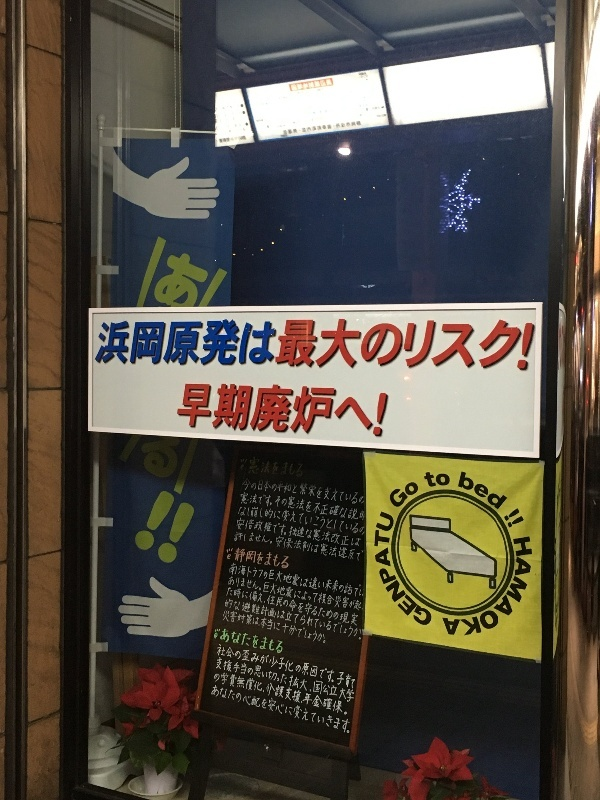text: (417, 501, 433, 656), (401, 501, 416, 656), (449, 522, 464, 667), (465, 522, 480, 667), (481, 522, 496, 667), (497, 522, 512, 667), (513, 522, 528, 667), (529, 522, 544, 667), (386, 501, 400, 656), (545, 522, 558, 667), (177, 245, 192, 308), (193, 245, 208, 308), (193, 383, 208, 440), (209, 383, 224, 440), (225, 383, 240, 440), (241, 383, 256, 440), (257, 383, 272, 440), (273, 383, 288, 440), (289, 383, 304, 440), (305, 383, 320, 440), (321, 383, 336, 440), (337, 383, 352, 440), (353, 383, 368, 440), (369, 383, 384, 440), (289, 319, 304, 375), (305, 319, 320, 375), (321, 319, 336, 375), (337, 319, 352, 375), (353, 319, 368, 375), (369, 319, 384, 375), (385, 319, 400, 375), (401, 319, 416, 375), (417, 319, 432, 375), (433, 319, 448, 375), (449, 319, 464, 375), (465, 319, 480, 375), (481, 319, 496, 375), (497, 319, 512, 375), (513, 319, 528, 375), (225, 683, 240, 735), (241, 683, 256, 735), (257, 683, 272, 735), (273, 683, 288, 735), (289, 683, 304, 735), (305, 683, 320, 735), (321, 683, 336, 735), (113, 319, 128, 369), (129, 319, 144, 369), (145, 319, 160, 369), (161, 319, 176, 369), (177, 319, 192, 369), (193, 319, 208, 369), (209, 319, 224, 369), (225, 319, 240, 369), (241, 319, 256, 369), (257, 319, 272, 369), (337, 683, 351, 735), (443, 522, 448, 667), (225, 656, 240, 704), (241, 656, 256, 704), (257, 656, 272, 704), (273, 656, 288, 704), (289, 656, 304, 704), (305, 656, 320, 704), (321, 656, 336, 704), (337, 656, 352, 704), (145, 435, 160, 482), (161, 435, 176, 482), (225, 643, 240, 689), (241, 643, 256, 689), (257, 643, 272, 689), (273, 643, 288, 689), (289, 643, 304, 689), (305, 643, 320, 689), (321, 643, 336, 689), (337, 643, 352, 689), (241, 598, 256, 643), (257, 598, 272, 643), (273, 598, 288, 643), (289, 598, 304, 643), (305, 598, 320, 643), (321, 598, 336, 643), (337, 598, 352, 643), (225, 671, 240, 716), (241, 671, 256, 716), (257, 671, 272, 716), (273, 671, 288, 716), (289, 671, 304, 716), (305, 671, 320, 716), (321, 671, 336, 716), (225, 604, 240, 647), (241, 604, 256, 647), (257, 604, 272, 647), (273, 604, 288, 647), (289, 604, 304, 647), (305, 604, 320, 647), (226, 598, 240, 643), (181, 383, 192, 440), (465, 471, 480, 512), (481, 471, 496, 512), (241, 586, 256, 627), (257, 586, 272, 627), (273, 586, 288, 627), (289, 586, 304, 627), (305, 586, 320, 627), (321, 586, 336, 627), (337, 586, 352, 627), (100, 319, 112, 369), (337, 671, 350, 716), (401, 473, 416, 511), (241, 562, 256, 599), (257, 562, 272, 599), (273, 562, 288, 599), (289, 562, 304, 599), (305, 562, 320, 599), (321, 562, 336, 599), (337, 562, 352, 599), (241, 576, 256, 613), (257, 576, 272, 613), (273, 576, 288, 613), (289, 576, 304, 613), (305, 576, 320, 613), (321, 576, 336, 613), (337, 576, 352, 613), (241, 502, 256, 537), (257, 502, 272, 537), (273, 502, 288, 537), (289, 502, 304, 537), (305, 502, 320, 537), (321, 502, 336, 537), (337, 502, 352, 537), (214, 683, 224, 735), (241, 488, 256, 522), (257, 488, 272, 522), (273, 488, 288, 522), (289, 488, 304, 522), (305, 488, 320, 522), (321, 488, 336, 522), (337, 488, 352, 522), (228, 586, 240, 627), (241, 531, 256, 563), (257, 531, 272, 563), (273, 531, 288, 563), (289, 531, 304, 563), (305, 531, 320, 563), (321, 531, 336, 563), (337, 531, 352, 563), (388, 473, 400, 511), (497, 471, 508, 512), (241, 518, 256, 548), (257, 518, 272, 548), (273, 518, 288, 548), (289, 518, 304, 548), (305, 518, 320, 548), (321, 518, 336, 548), (337, 518, 352, 548), (353, 598, 363, 643), (353, 562, 365, 599), (257, 478, 272, 506), (273, 478, 288, 506), (289, 478, 304, 506), (305, 478, 320, 506), (321, 478, 336, 506), (337, 478, 352, 506), (353, 502, 365, 537), (353, 488, 365, 522), (353, 576, 364, 613), (225, 628, 240, 655), (241, 628, 256, 655), (257, 628, 272, 655), (215, 671, 224, 716), (529, 319, 536, 375), (353, 531, 365, 563), (170, 245, 176, 308), (230, 576, 240, 613), (257, 457, 272, 480), (273, 457, 288, 480), (289, 457, 304, 480), (244, 478, 256, 506), (353, 478, 365, 506), (282, 319, 288, 375), (231, 562, 240, 599), (241, 547, 256, 569), (257, 547, 272, 569), (273, 547, 288, 569), (321, 604, 328, 647), (433, 470, 448, 490), (273, 628, 284, 655), (218, 656, 224, 704), (385, 383, 390, 440), (177, 435, 183, 482), (353, 518, 362, 548), (513, 507, 524, 530), (353, 586, 359, 627), (219, 643, 224, 689), (289, 121, 304, 136), (305, 121, 320, 136), (321, 121, 336, 136), (337, 121, 352, 136), (289, 78, 304, 92), (305, 78, 320, 92), (422, 470, 432, 490), (273, 319, 277, 369), (504, 507, 512, 530), (353, 643, 357, 689), (321, 78, 333, 92), (235, 531, 240, 563), (353, 656, 356, 704), (225, 135, 240, 144), (353, 121, 362, 136), (209, 245, 211, 308), (461, 471, 464, 512), (251, 457, 256, 480), (417, 473, 420, 511), (235, 547, 240, 569), (283, 121, 288, 136), (216, 107, 224, 115), (238, 518, 240, 548), (216, 125, 224, 132), (222, 628, 224, 655), (218, 135, 224, 144), (241, 135, 247, 144), (449, 470, 451, 490), (216, 114, 224, 119), (216, 132, 224, 137), (216, 120, 224, 124), (289, 547, 290, 569)
